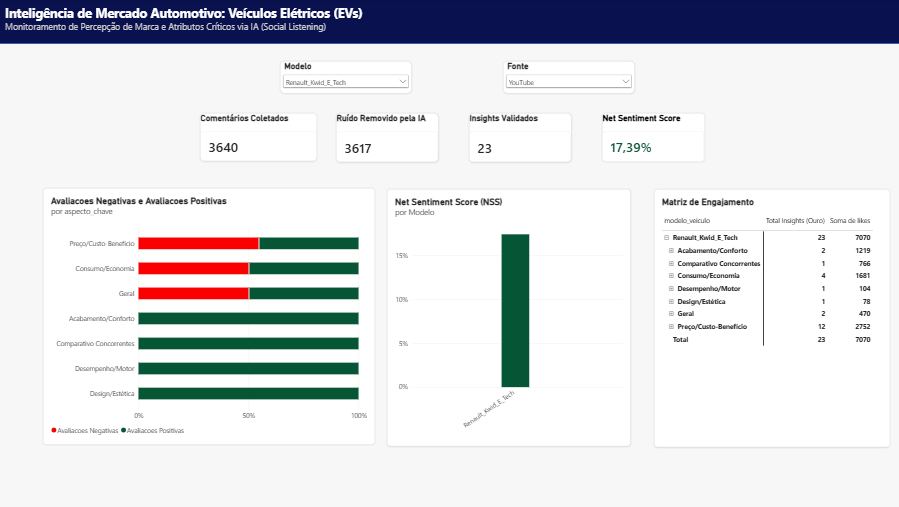

The dashboard page shown, as its layout file describes it:
{"tool":"powerbi","page":{"name":"Página 1","canvas":[1920,1080],"ordinal":0},"visuals":[{"type":"shape","box":[0,0,1920,95],"z":0},{"type":"slicer","fields":{"Values":["dModelo.Modelo"]},"box":[25,111,280,68.6],"z":1000},{"type":"slicer","fields":{"Values":["dFonte.Fonte"]},"box":[376,111,280,68.6],"z":2000},{"type":"cardVisual","title":"Comentários Coletados","fields":{"Data":["_Medidas.Total Volume Bruto"]},"box":[48.9,282.8,249.4,103.3],"z":2001},{"type":"cardVisual","title":"Ruído Removido pela IA","fields":{"Data":["_Medidas.Ruido Descartado"]},"box":[355,282.8,217.5,105],"z":2002},{"type":"cardVisual","title":"Insights Validados","fields":{"Data":["_Medidas.Total Insights (Ouro)"]},"box":[633.5,282.8,217.5,105],"z":2003},{"type":"cardVisual","title":"Net Sentiment Score","fields":{"Data":["_Medidas.Net Sentiment Score (NSS)"]},"box":[916.3,282.8,219,104.2],"z":2004},{"type":"donutChart","fields":{"Y":["_Medidas.Ruido Descartado","_Medidas.Total Insights (Ouro)"]},"box":[48.9,433.7,496.4,340.2],"z":2005},{"type":"hundredPercentStackedBarChart","fields":{"Category":["fAvaliacoes.aspecto_chave"],"Y":["_Medidas.Avaliacoes Negativas","_Medidas.Avaliacoes Positivas"]},"box":[608,433.7,705.5,370.4],"z":2006},{"type":"pivotTable","fields":{"Rows":["fAvaliacoes.modelo_veiculo","fAvaliacoes.aspecto_chave","fAvaliacoes.resumo_insight"],"Values":["Sum(fAvaliacoes.likes)"]},"box":[95.7,803.6,297.6,233.9],"z":2008},{"type":"clusteredColumnChart","fields":{"Category":["dModelo.Modelo"],"Y":["_Medidas.Net Sentiment Score (NSS)"]},"box":[1362.8,433.7,518.7,646.3],"z":2009}]}

Visuals, with their boxes in screenshot pixels (x1, y1, x2, y2), scaled from the page's 1920x1080 canvas onto the 899x507 screenshot:
shape: left=0, top=0, right=898, bottom=45
slicer - dModelo.Modelo: left=12, top=52, right=143, bottom=84
slicer - dFonte.Fonte: left=176, top=52, right=307, bottom=84
"Comentários Coletados" cardVisual: left=23, top=133, right=140, bottom=181
"Ruído Removido pela IA" cardVisual: left=166, top=133, right=268, bottom=182
"Insights Validados" cardVisual: left=297, top=133, right=398, bottom=182
"Net Sentiment Score" cardVisual: left=429, top=133, right=532, bottom=182
donutChart - _Medidas.Ruido Descartado x _Medidas.Total Insights (Ouro): left=23, top=204, right=255, bottom=363
hundredPercentStackedBarChart - fAvaliacoes.aspecto_chave x _Medidas.Avaliacoes Negativas: left=285, top=204, right=615, bottom=377
pivotTable - fAvaliacoes.modelo_veiculo x fAvaliacoes.aspecto_chave: left=45, top=377, right=184, bottom=487
clusteredColumnChart - dModelo.Modelo x _Medidas.Net Sentiment Score (NSS): left=638, top=204, right=881, bottom=506
